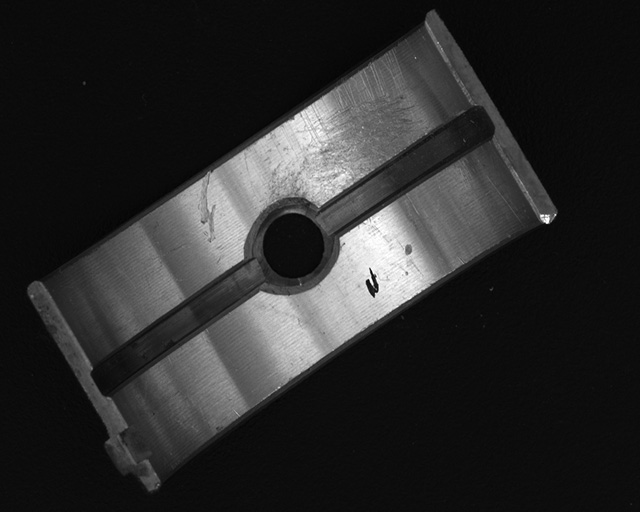blot: (364, 267, 379, 300)
bruise: (403, 241, 414, 257)
gap: (93, 260, 266, 393), (323, 110, 495, 231)
hole: (249, 201, 337, 289)
nick: (197, 170, 219, 243)
scratch: (262, 45, 415, 207)
